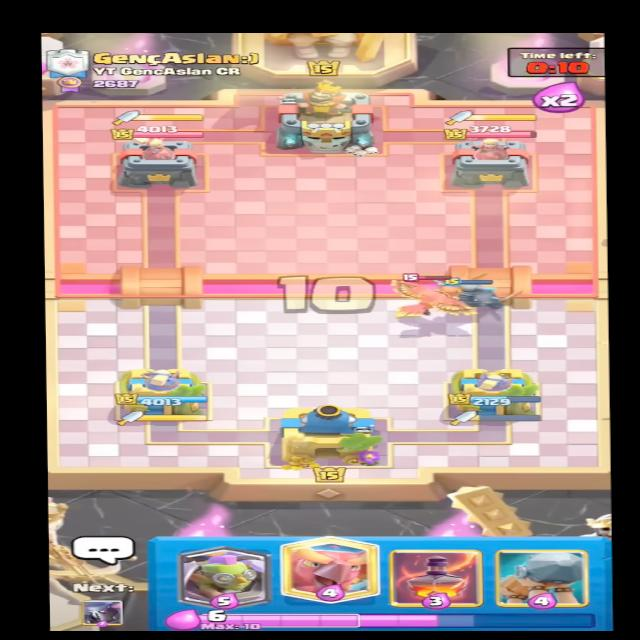phoenix: (376, 272, 489, 321)
